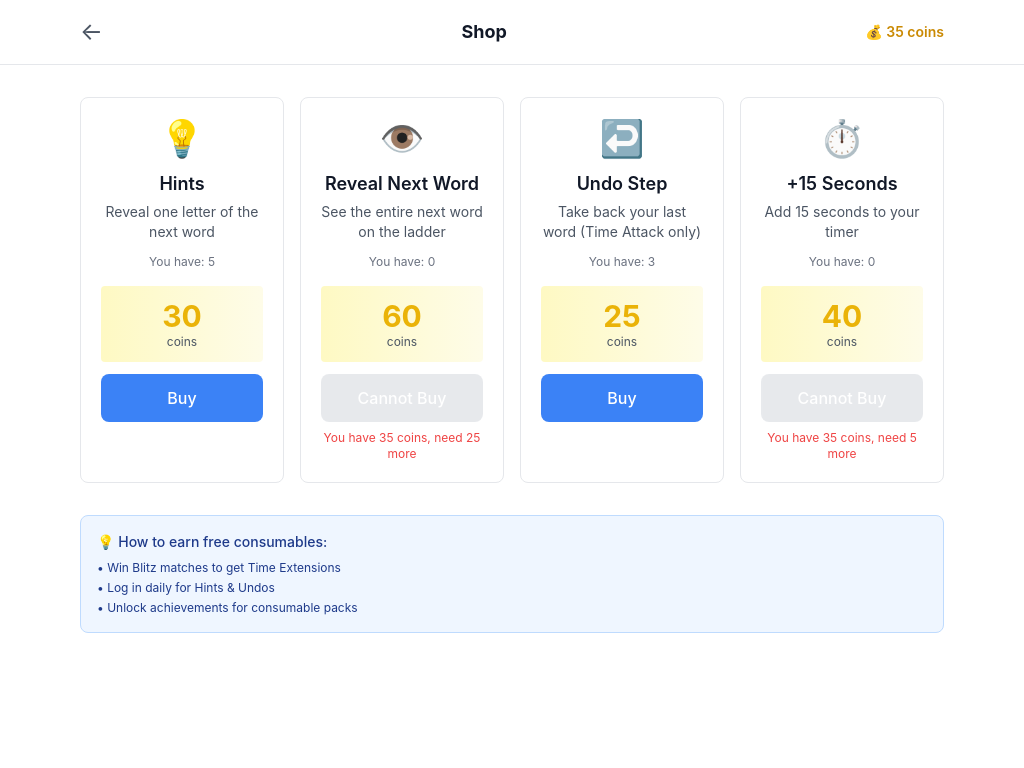
ShopPage Integration Tests › Insufficient Coins Validation › can only purchase item that fits within available coins
expect the heading "Shop" is shown: met, box [461,18,507,46]
Note: Complete a purchase
Click the button with aria-label "Buy 5x Hints".
click(182, 398)  # box [101,374,263,422]
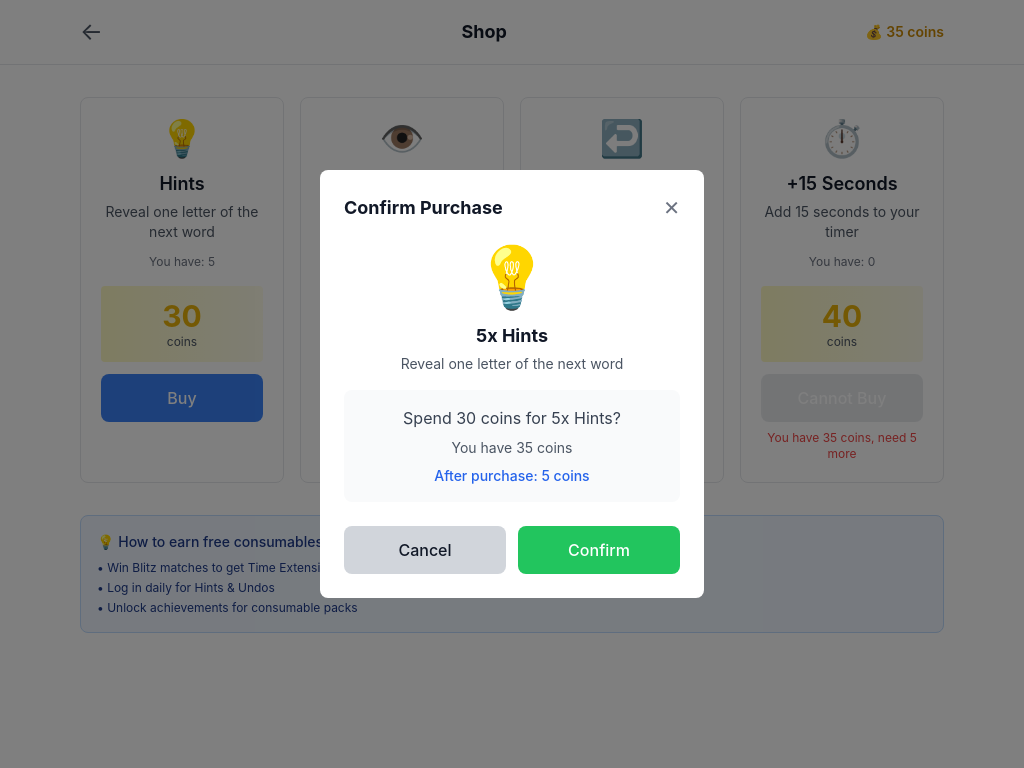
expect the dialog is shown: met, box [320,170,704,598]
Click the button with aria-label "Confirm purchase".
click(599, 550)  # box [518,526,680,574]
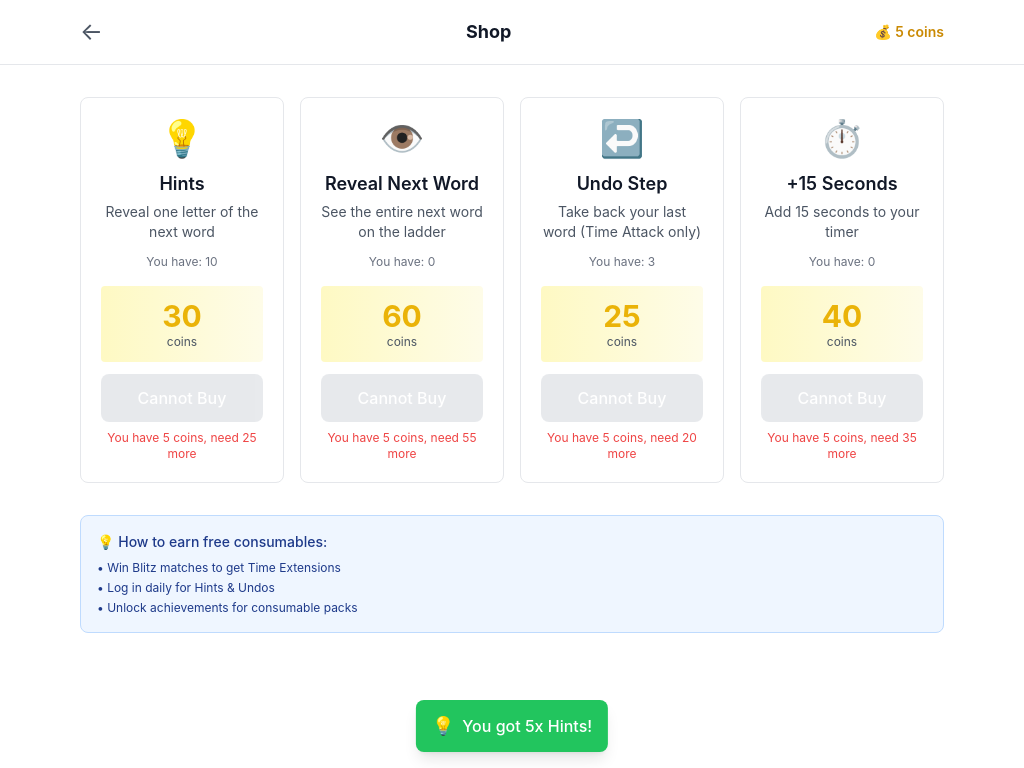
expect the text "You got 5x Hints!" is shown: met, box [462,714,592,738]
